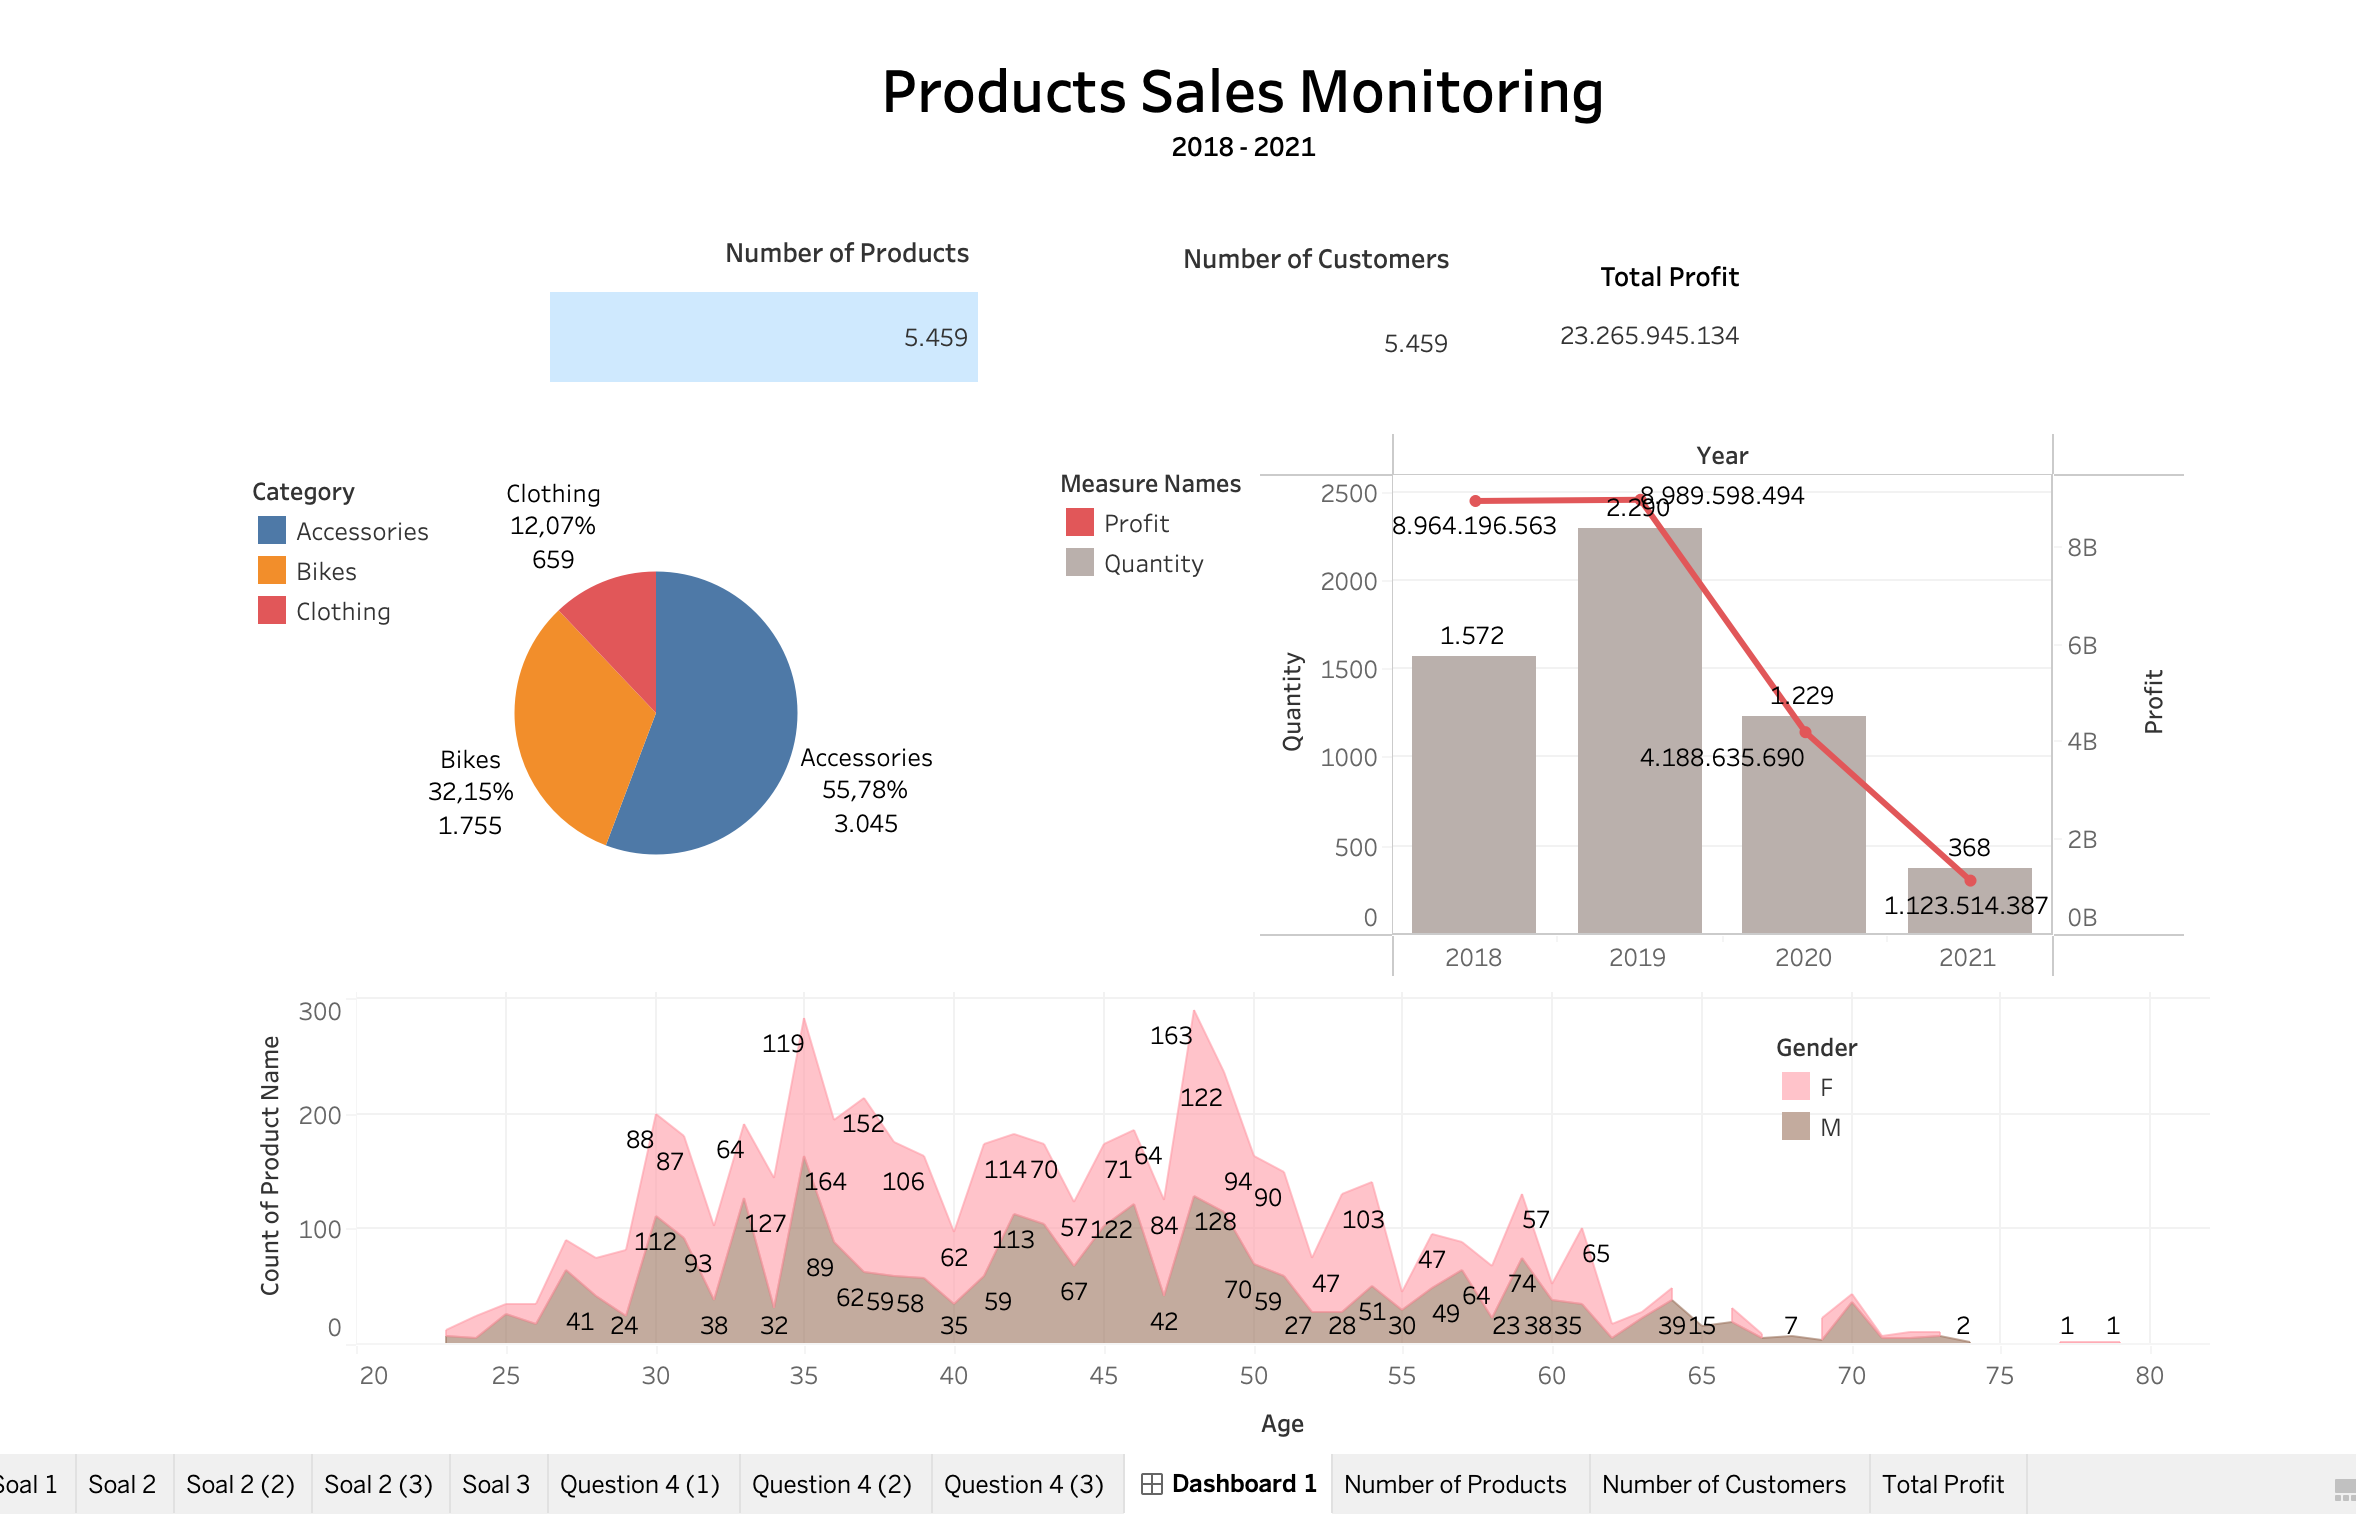

What the dashboard file says about the page in this screenshot:
{"tool":"tableau","page":{"name":"Dashboard 1","canvas":[1000,1000],"units":"permille","ordinal":0},"visuals":[{"type":"text","box":[83.1,17.9,820,119.6]},{"type":"worksheet","title":"Number of Products","mark":"Automatic","box":[172.3,158.9,198.5,107.1]},{"type":"worksheet","title":"Number of Customers","mark":"Automatic","box":[410.8,162.5,181.5,107.1]},{"type":"worksheet","title":"Total Profit","mark":"Automatic","box":[633.9,175,206.2,121.4]},{"type":"worksheet","title":"Question 4 (2)","mark":"Bar","rows":["quantity","Calculation_291819229444837376"],"cols":["Calculation_137711679586603008"],"box":[500.9,301.8,428.7,373.2]},{"type":"legend","title":"Question 4 (2)","param":"[federated.1g2672h1jnhnj617w2ymz0x7n22a].[:Measure Names]","box":[408.3,323.2,214.8,103.6]},{"type":"legend","title":"Question 4 (1)","param":"[federated.1g2672h1jnhnj617w2ymz0x7n22a].[none:category:nk]","box":[33.9,328.6,146.2,150]},{"type":"worksheet","title":"Question 4 (3)","mark":"Area","rows":["product_name"],"cols":["Calculation_104145788592357376"],"box":[27.8,683.9,913,316.1]},{"type":"legend","title":"Question 4 (3)","param":"[federated.1g2672h1jnhnj617w2ymz0x7n22a].[none:gender:nk]","box":[739.8,708.9,129.6,103.6]}]}

Visuals, with their boxes on the dashboard's canvas, which has no fixed pixel size, in thousandths of its width and height (x1, y1, x2, y2). These are canvas units, not pixel positions in the 2356x1514 screenshot, which may show the page scaled, cropped or inside an application window:
text: x1=83, y1=18, x2=903, y2=138
"Number of Products" worksheet: x1=172, y1=159, x2=371, y2=266
"Number of Customers" worksheet: x1=411, y1=162, x2=592, y2=270
"Total Profit" worksheet: x1=634, y1=175, x2=840, y2=296
"Question 4 (2)" worksheet (Bar marks): x1=501, y1=302, x2=930, y2=675
"Question 4 (2)" legend: x1=408, y1=323, x2=623, y2=427
"Question 4 (1)" legend: x1=34, y1=329, x2=180, y2=479
"Question 4 (3)" worksheet (Area marks): x1=28, y1=684, x2=941, y2=1000
"Question 4 (3)" legend: x1=740, y1=709, x2=869, y2=812
